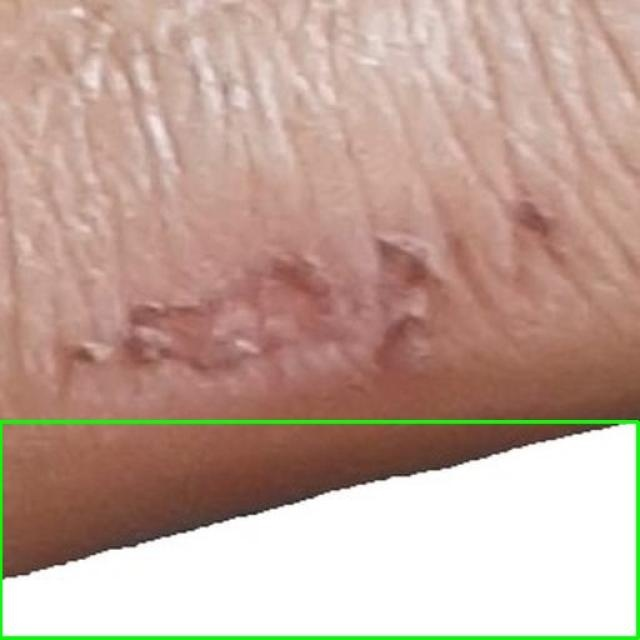Atopic Dermatitis: (0, 422, 639, 639)
